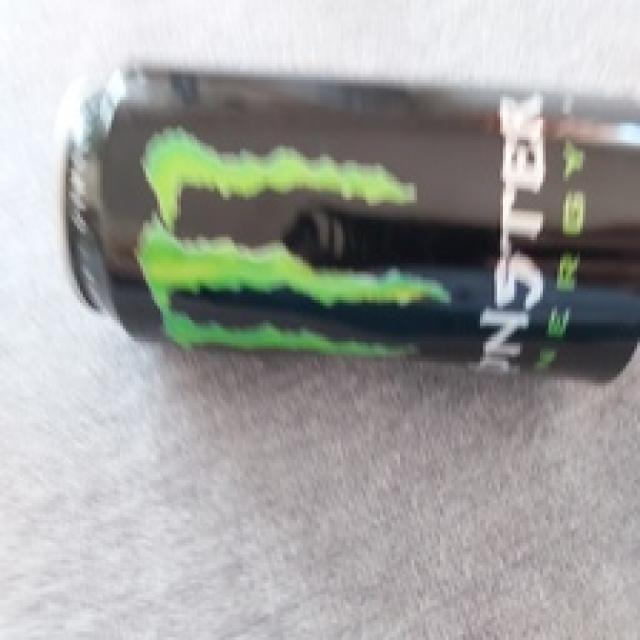recyclable: (61, 52, 640, 387)
